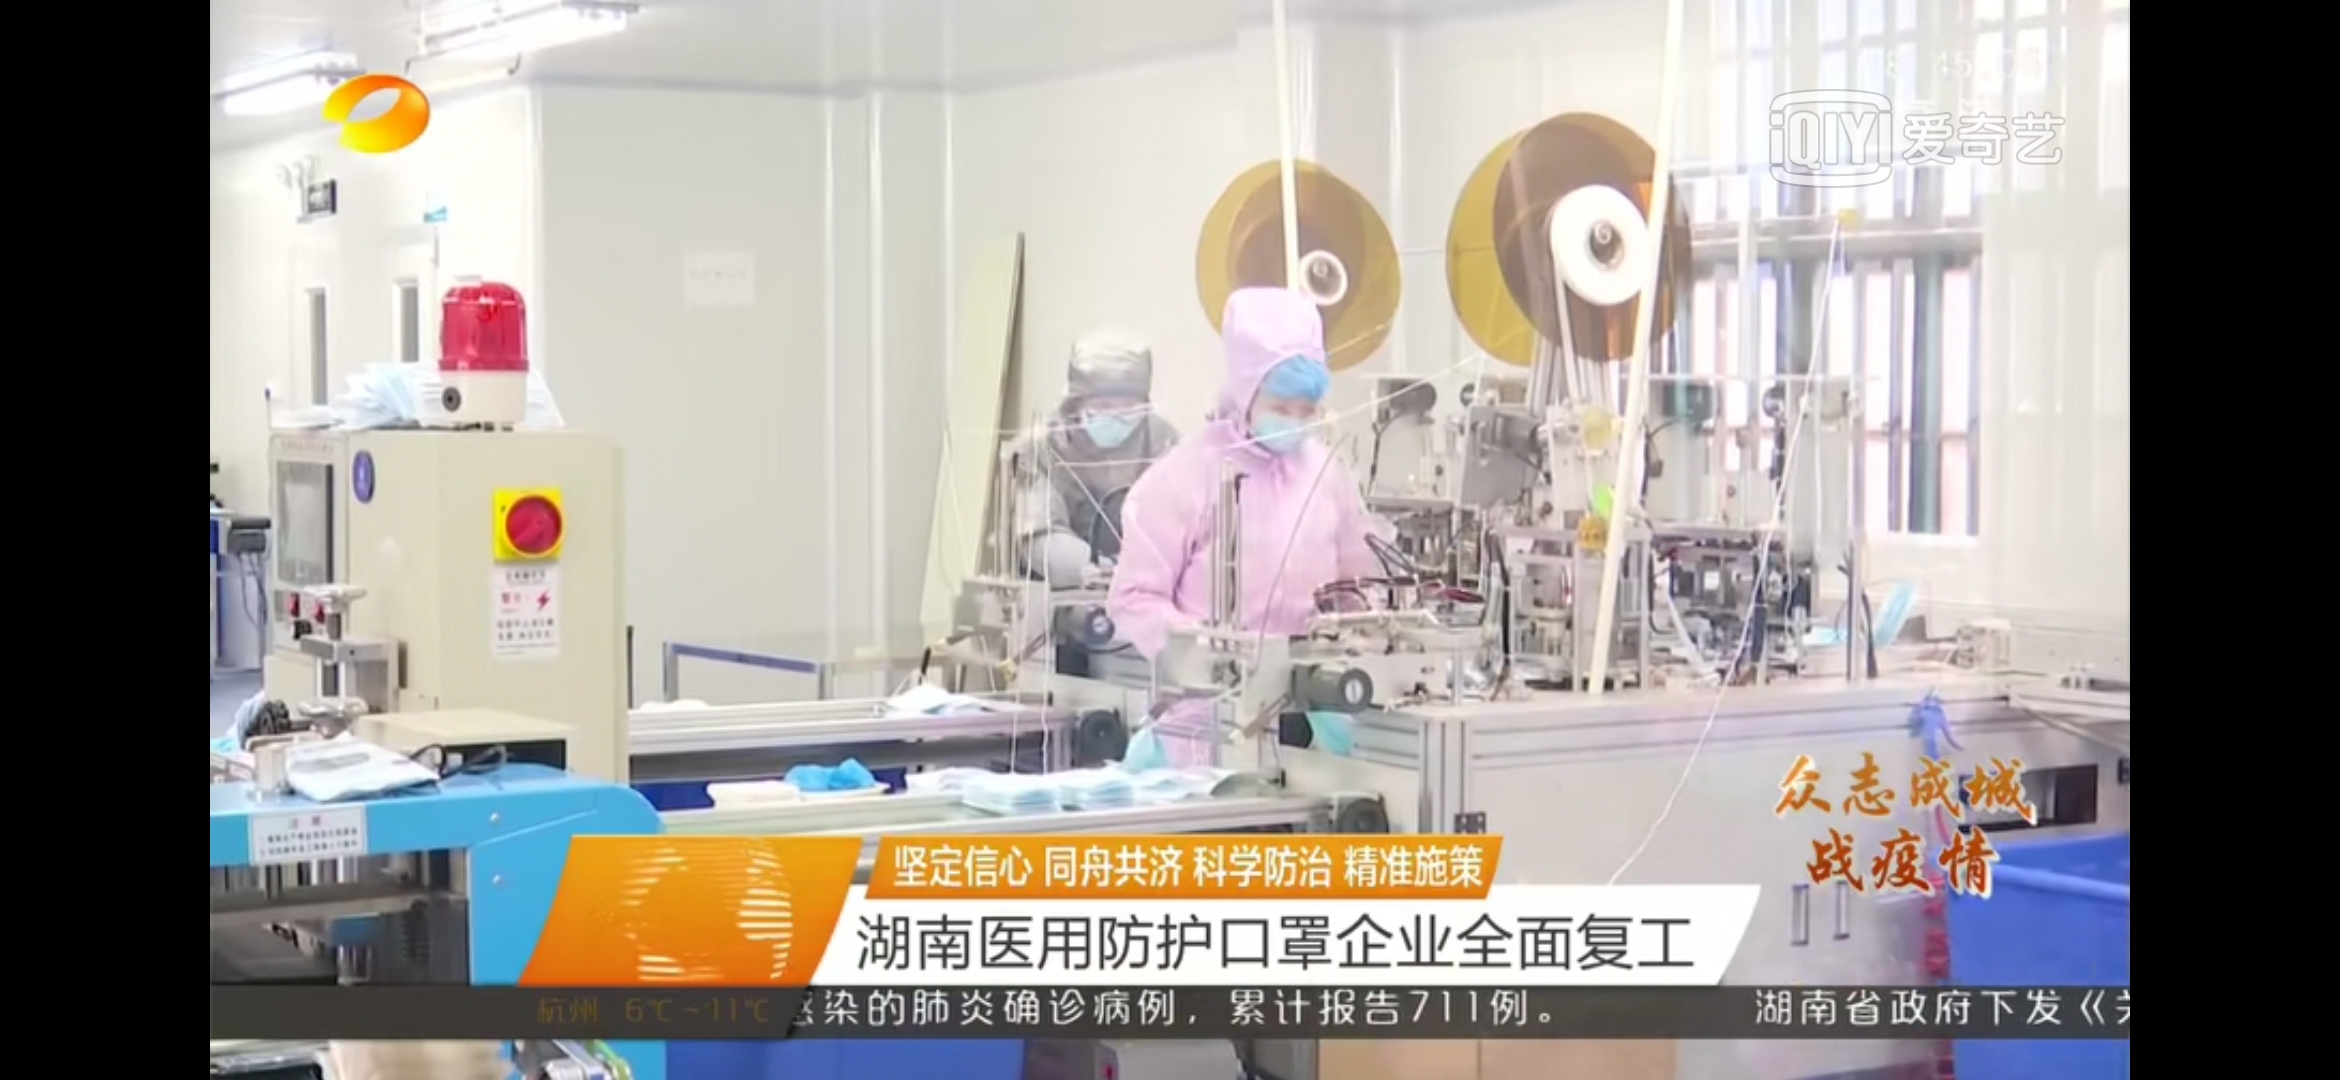correctlyWear: (1248, 367, 1325, 453), (1072, 380, 1154, 450)
